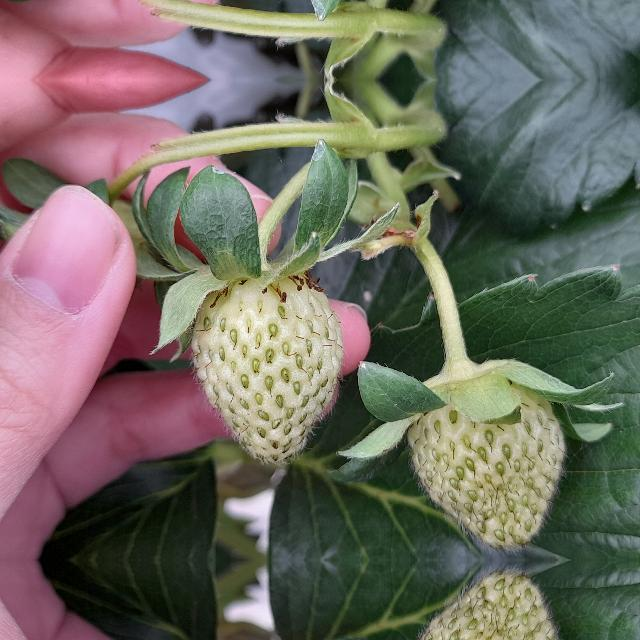Health_25: (190, 274, 342, 462), (411, 382, 565, 550), (411, 569, 565, 640)
